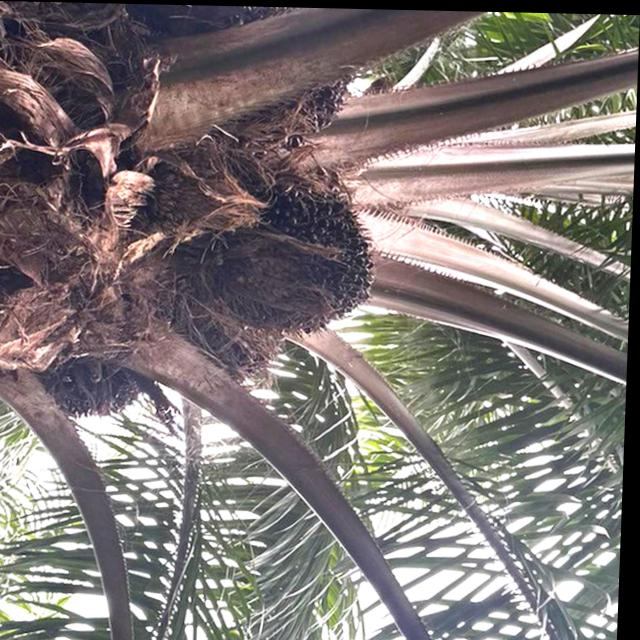unripe: (207, 174, 386, 341)
